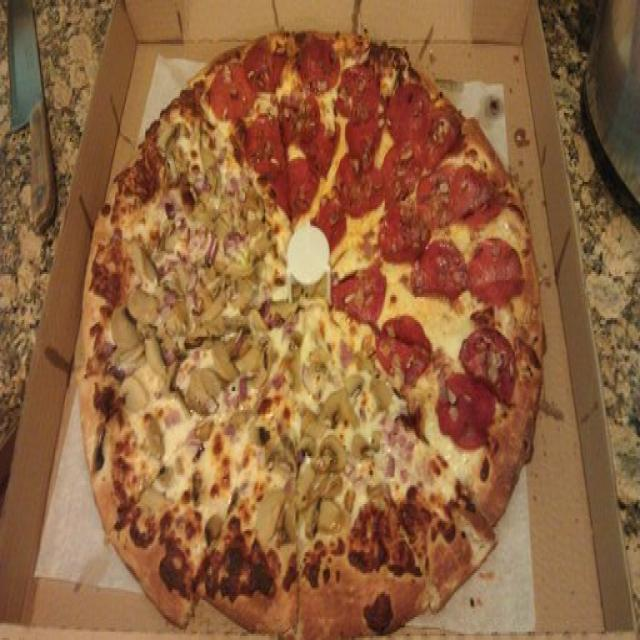Mushrooms: (227, 188, 265, 254), (191, 363, 226, 421), (242, 314, 272, 373), (200, 148, 222, 228), (130, 278, 164, 326), (324, 392, 360, 428), (168, 130, 188, 188), (143, 418, 169, 460), (206, 331, 234, 370), (198, 267, 224, 309), (308, 494, 338, 530), (273, 427, 298, 470), (322, 434, 347, 475), (288, 335, 305, 393), (264, 489, 284, 537), (176, 296, 200, 335), (113, 314, 137, 350), (234, 278, 254, 308)
Pepperoni: (385, 89, 458, 159), (438, 376, 490, 450), (474, 320, 512, 402), (474, 242, 524, 302), (419, 240, 468, 298), (455, 173, 505, 227), (297, 110, 335, 174), (338, 270, 383, 324), (214, 68, 258, 122), (391, 316, 431, 374), (382, 208, 427, 256), (341, 60, 377, 118), (302, 41, 336, 99), (340, 162, 382, 207), (249, 118, 284, 168), (385, 160, 423, 203), (244, 48, 276, 87), (428, 172, 450, 227), (294, 164, 318, 214), (347, 116, 378, 153), (321, 202, 342, 245), (275, 176, 296, 214)
Pizza: (81, 33, 541, 640)
